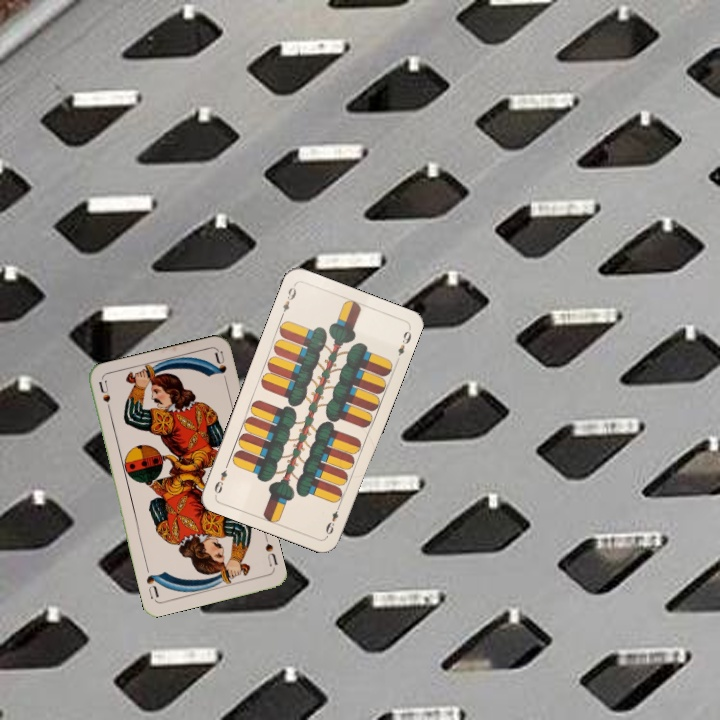E9: (277, 281, 299, 320), (321, 500, 343, 539)
SU: (95, 377, 114, 418), (260, 532, 280, 569)
